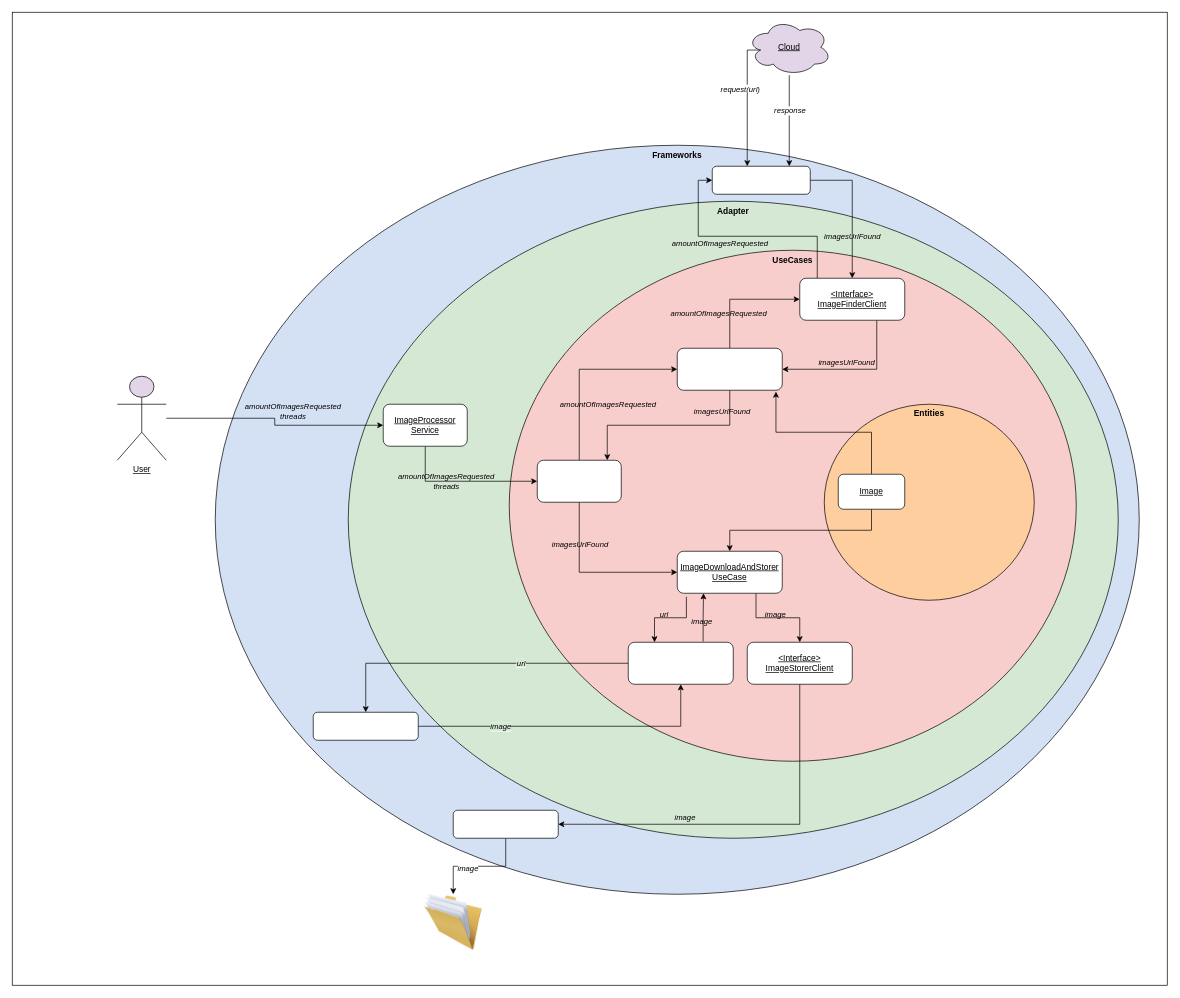
Some shapes in this 1180 by 998 pixel diagram are drawn without their labels. The shapes that lost their labels are listed below. From the top down, each one's centre as x and y in pixels, then its label:
the point at 761,180: ImageFinderClientImpl
the point at 729,369: ImageFinder UseCase
the point at 579,481: ImageProcessor UseCase
the point at 680,663: <Interface> ImageDownloadClient
the point at 365,726: ImageDownloadClientImpl
the point at 505,824: ImageStorerClientImpl
